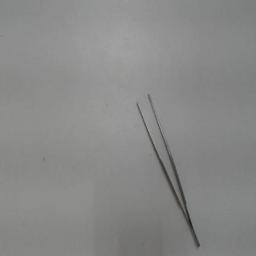Gillies Toothed Dissector: (130, 83, 202, 249)
